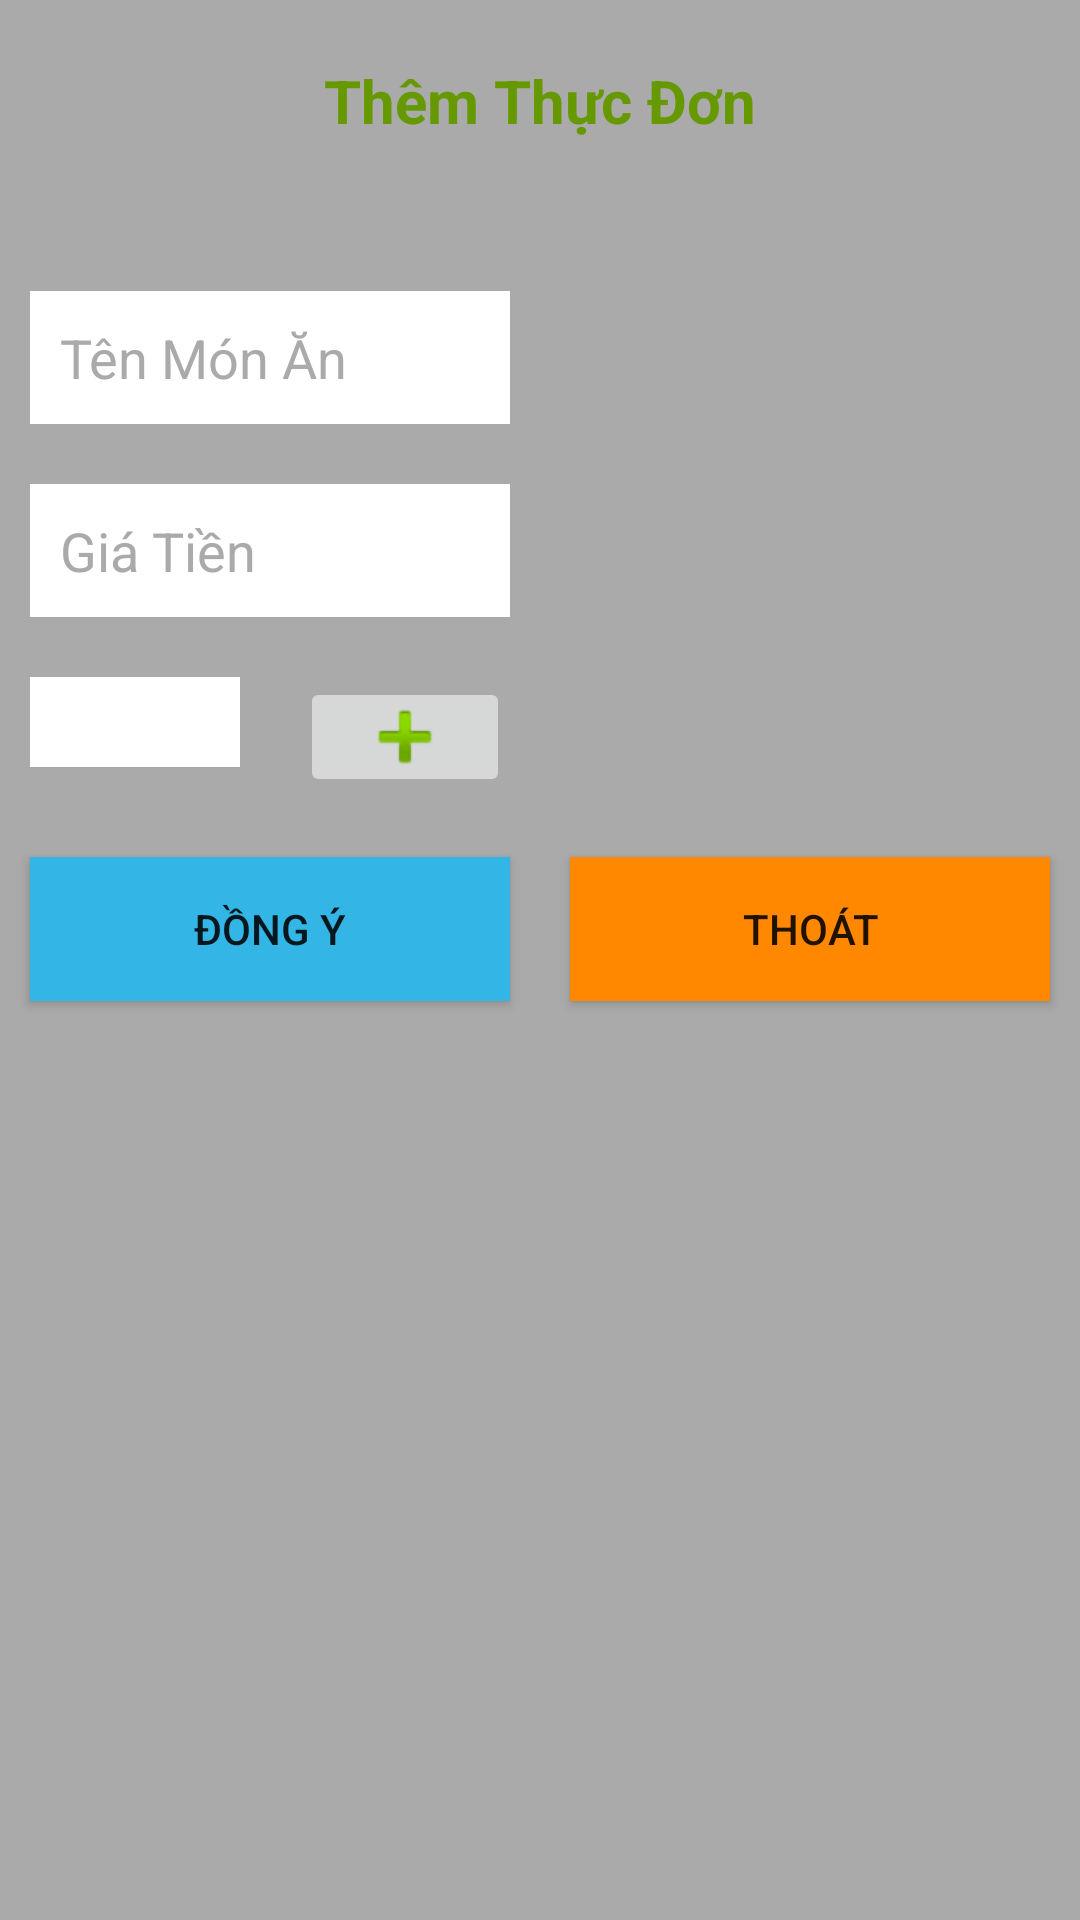

Icons on this 1080px×1920px Android screen, each with its box as (x1, y1, x2, y2):
add: (312, 695, 498, 779)
